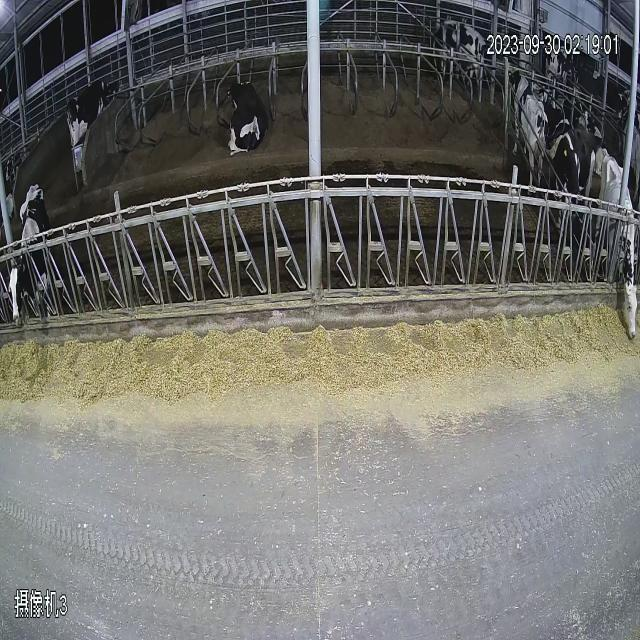feeding: (595, 130, 640, 346)
lying down: (220, 49, 274, 171)
standing: (504, 56, 600, 225), (4, 158, 67, 353), (425, 0, 494, 101), (55, 62, 118, 166), (530, 28, 586, 92), (611, 74, 640, 196)
